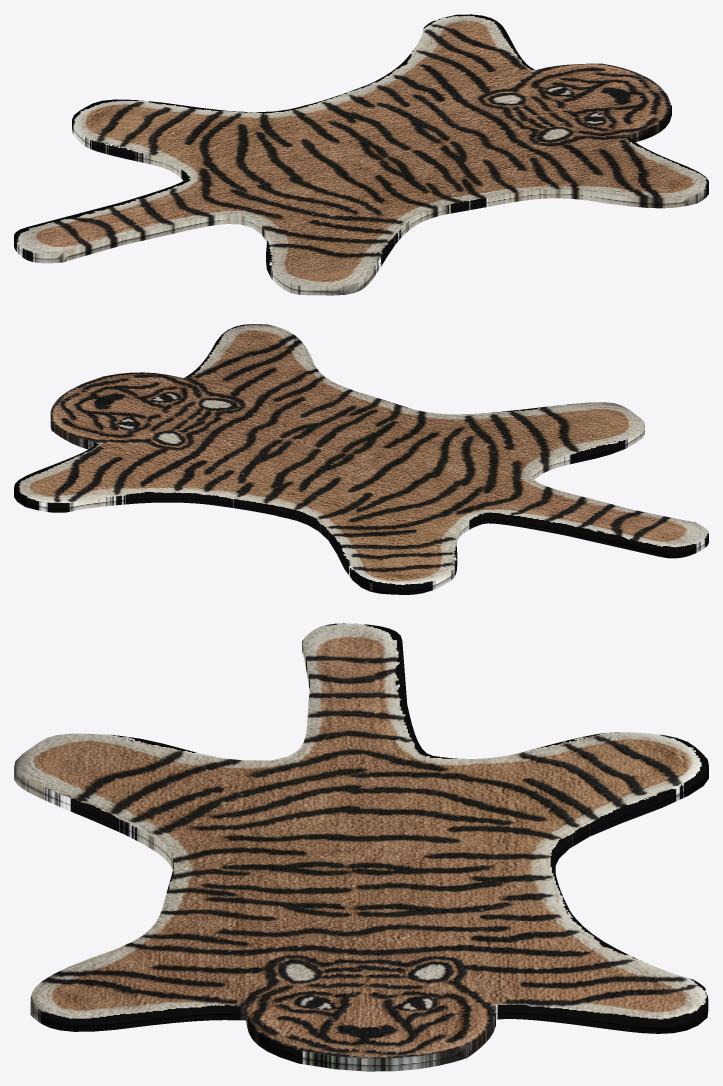
3 views of the same model, one above another, from view 1: azimuth 30°, elevation 25°; view 2: azimuth 150°, elevation 25°; view 3: azimuth 270°, elevation 25° (orthographic). The views are drawn at different scales.
Visible parts, largest first — view 1: mapped; view 2: mapped; view 3: mapped.
Boxes of the visible parts, bbox=[...] form: mapped: bbox=[14, 14, 708, 295]; mapped: bbox=[14, 324, 708, 594]; mapped: bbox=[14, 623, 708, 1071].
Size of the model in its own units: 1.49 by 0.02 by 1.
Materials: 1 (1 with a texture image).
